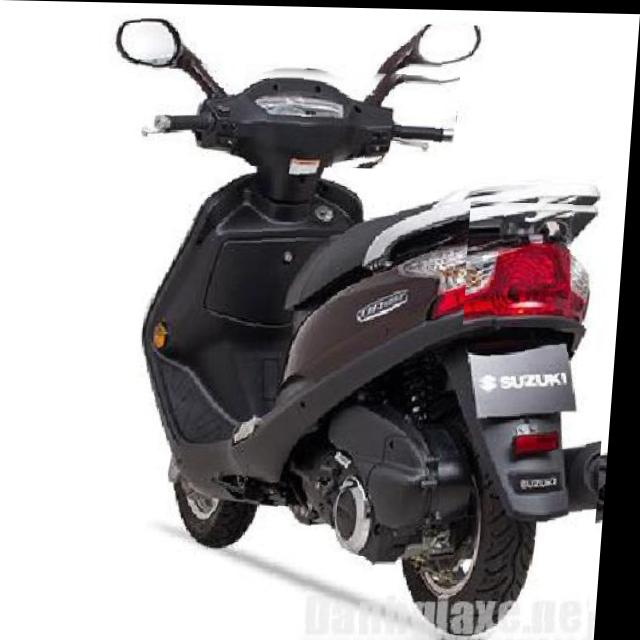All: (88, 17, 632, 640)
Head: (148, 61, 462, 168)
Tail: (467, 198, 612, 326)
